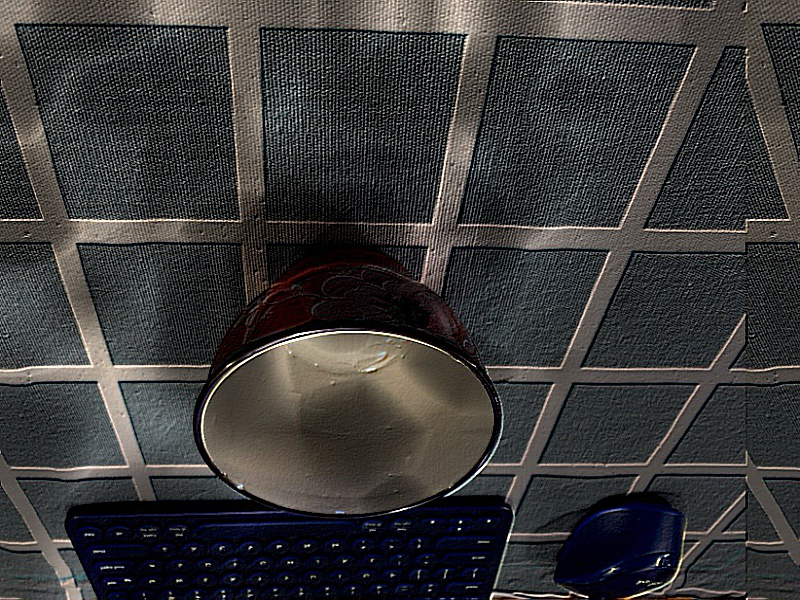bowl_small: (189, 238, 511, 525)
